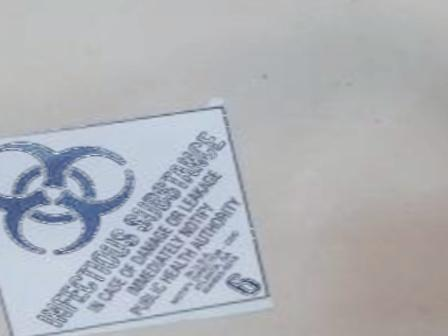infectious-substance: (1, 105, 271, 336)
